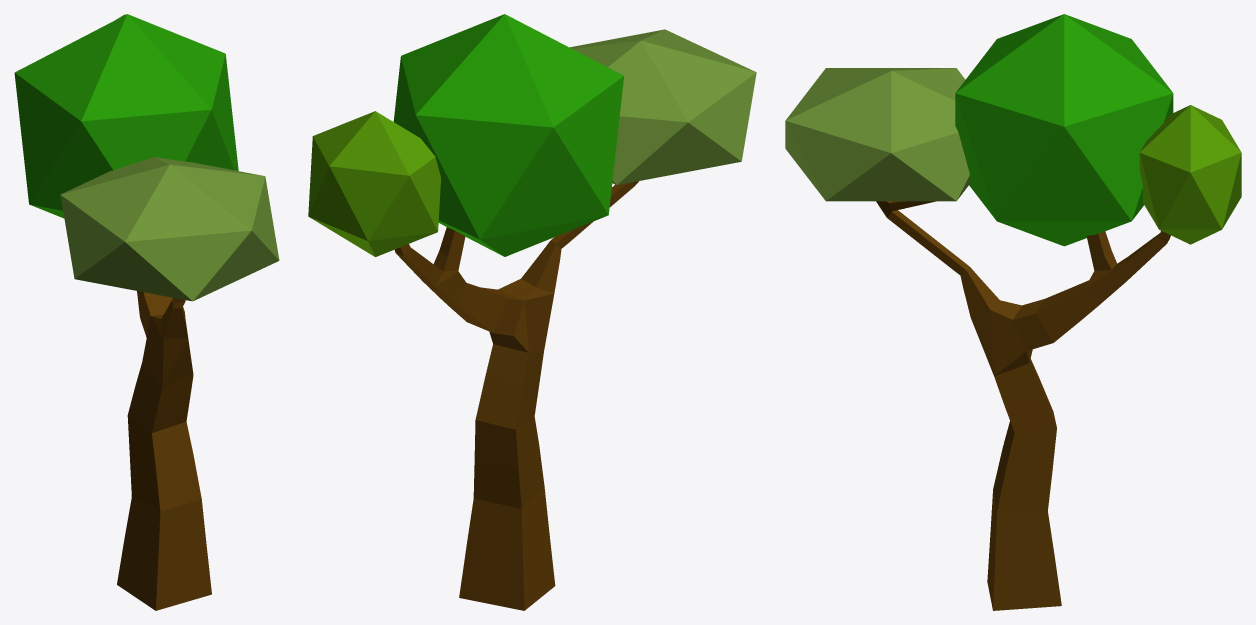
The model's file is Tree.fbx.
3 views of the same model, side by side, from view 1: azimuth 30°, elevation 25°; view 2: azimuth 150°, elevation 25°; view 3: azimuth 270°, elevation 25° (orthographic). The views are drawn at different scales.
Visible parts, largest first — view 1: Icosphere.002, Icosphere.001, Cube; view 2: Icosphere.002, Cube, Icosphere.001, Icosphere; view 3: Icosphere.002, Cube, Icosphere.001, Icosphere.
Boxes of the visible parts, x1,y1,x2,y2 form: Icosphere.002: (14, 14, 238, 218); Icosphere.001: (60, 157, 279, 301); Cube: (117, 291, 211, 610); Icosphere.002: (393, 14, 623, 256); Cube: (394, 181, 638, 610); Icosphere.001: (569, 29, 756, 185); Icosphere: (308, 111, 440, 256); Icosphere.002: (955, 14, 1173, 246); Cube: (876, 201, 1170, 610); Icosphere.001: (785, 68, 969, 201); Icosphere: (1139, 105, 1241, 244).
Size of the model in its own units: 234 by 493 by 356.
